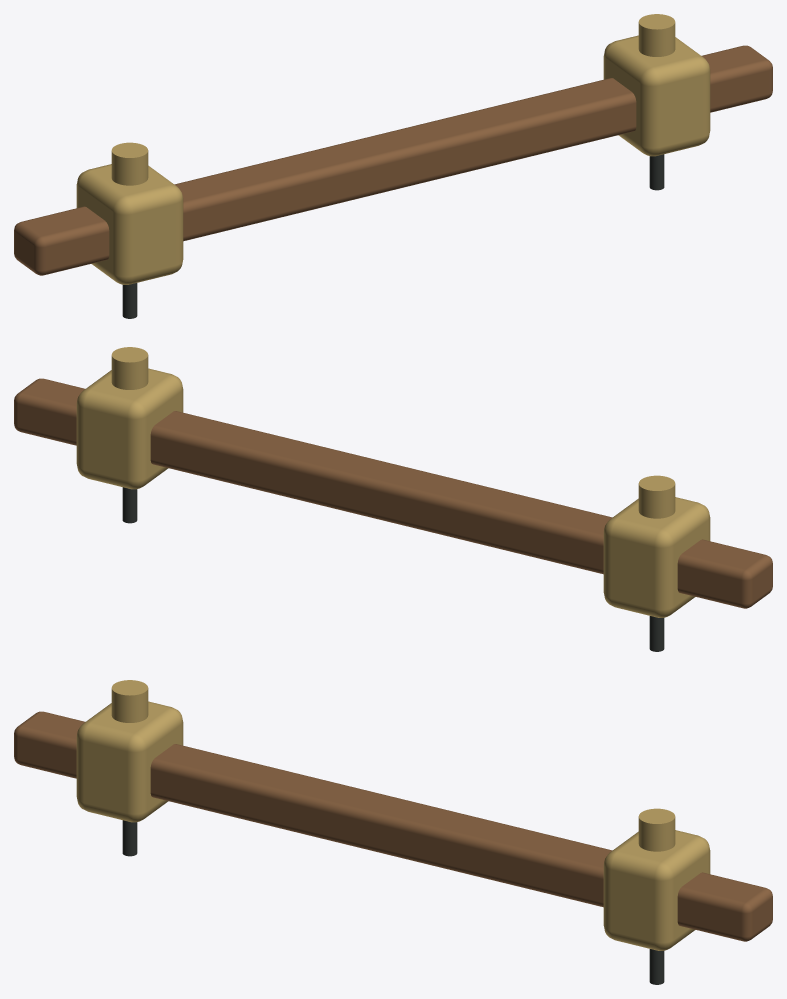
File: fantasy-cartographers-map-printing-guild-beam-compass-e8d78aa3__32232.glb
3 views of the same model, one above another, from view 1: azimuth 30°, elevation 25°; view 2: azimuth 150°, elevation 25°; view 3: azimuth 330°, elevation 25° (orthographic).
Parts seen in each view (by area): view 1: beam-compass; view 2: beam-compass; view 3: beam-compass.
Boxes of the visible parts, <box> form: beam-compass: <box>14,14,772,318</box>; beam-compass: <box>14,347,772,651</box>; beam-compass: <box>14,680,772,984</box>.
Size of the model in its own units: 0.7 by 0.15 by 0.08.
